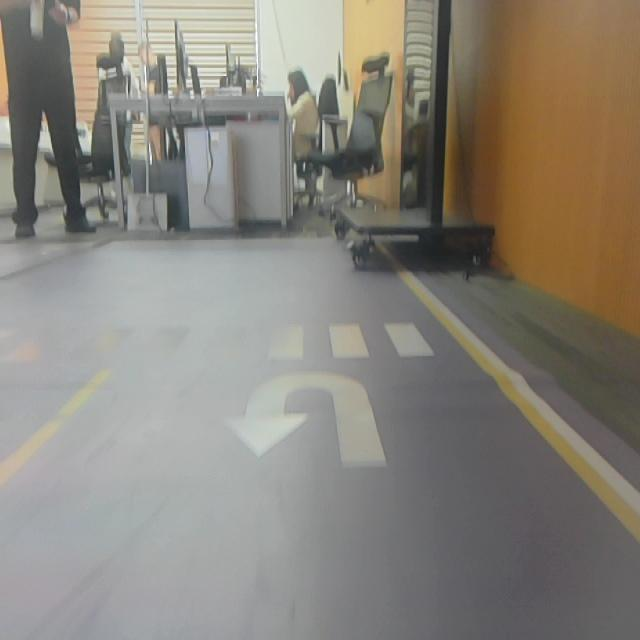left_lane: (0, 368, 108, 485)
right_lane: (377, 244, 640, 548)
